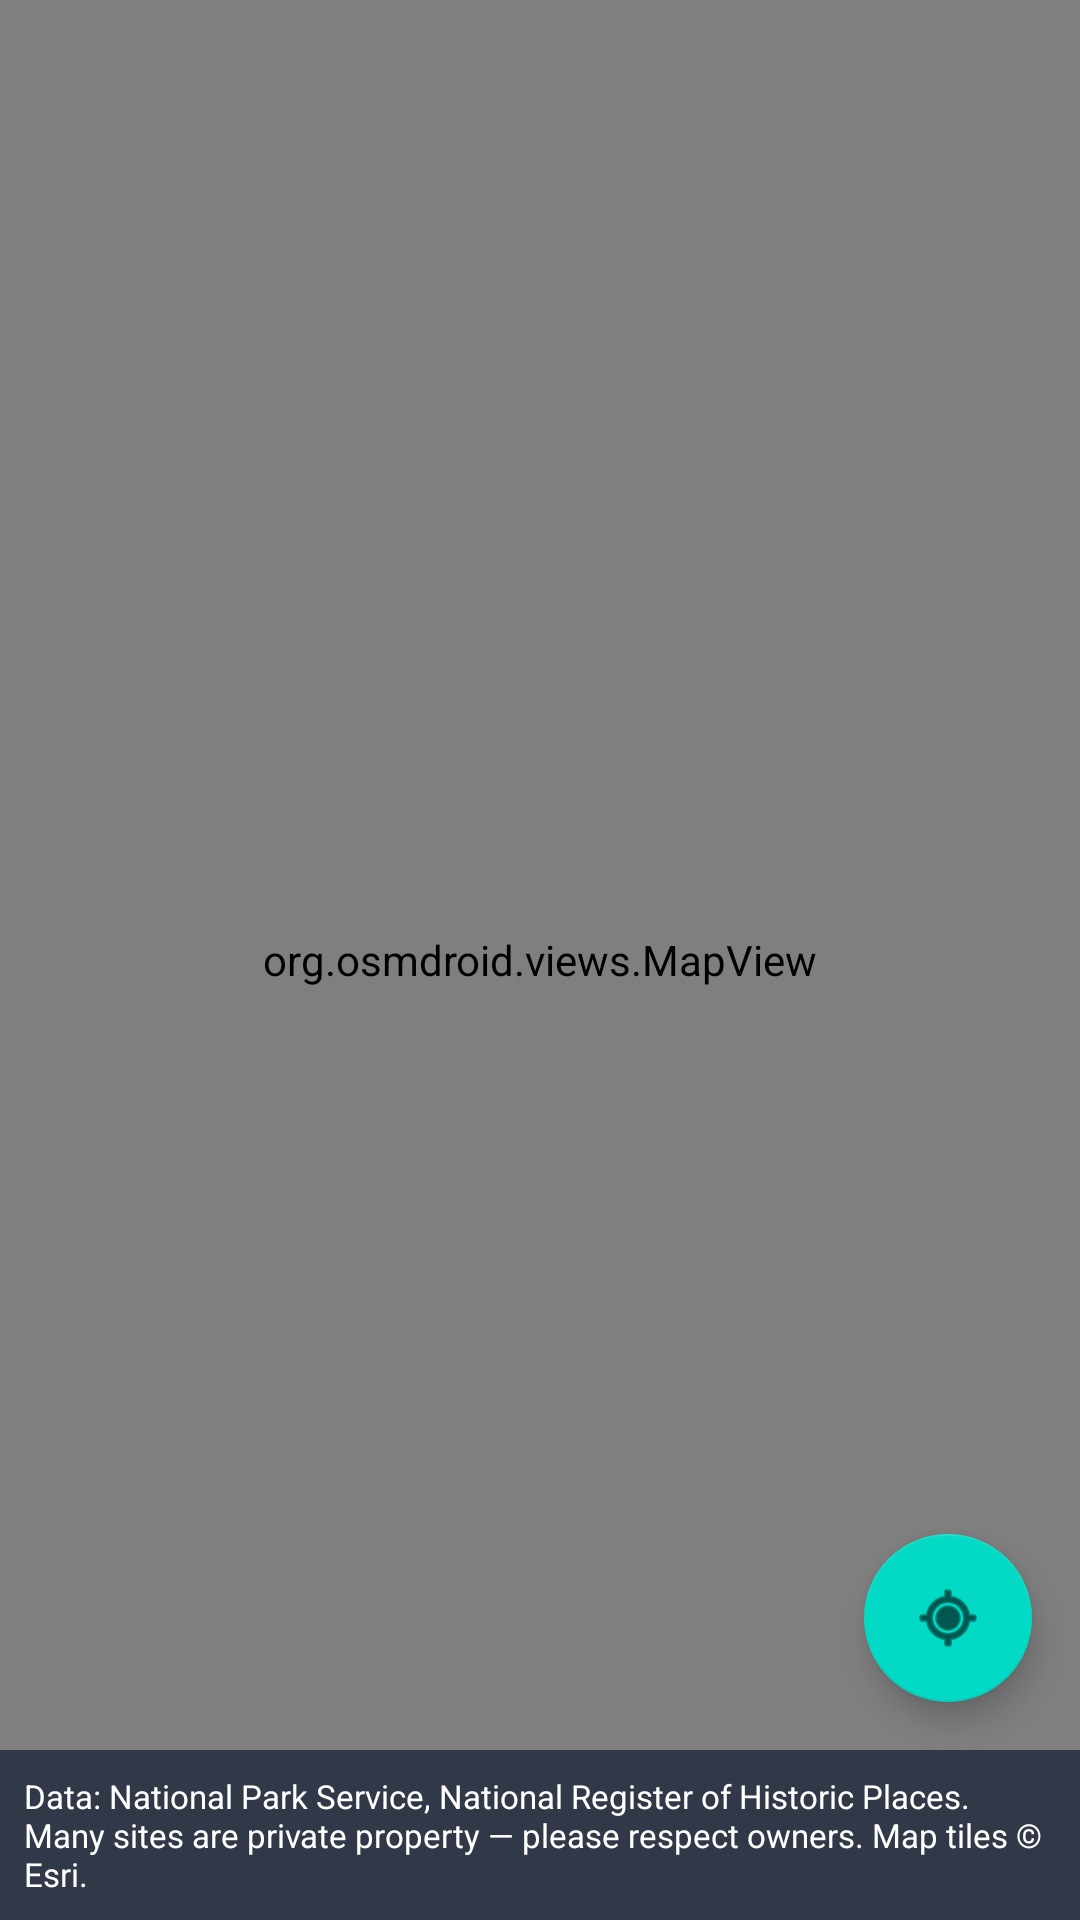

Icons on this 1080 × 1920 Android screen, each with the point to tap as [x,y]:
My location: [948,1618]
